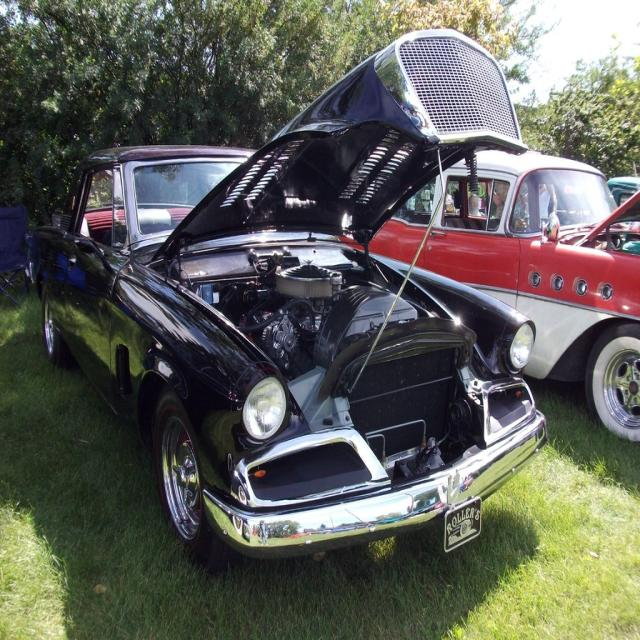car: (39, 66, 611, 571)
